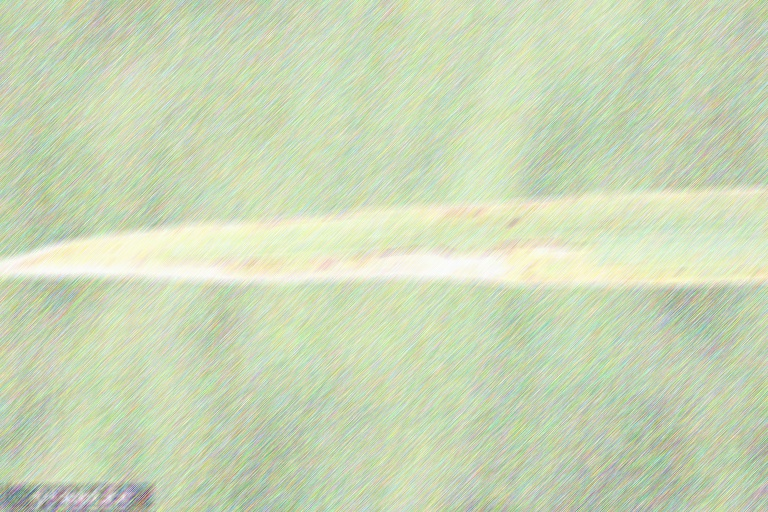Leaf_Blast: (139, 184, 767, 243), (13, 238, 663, 293)
